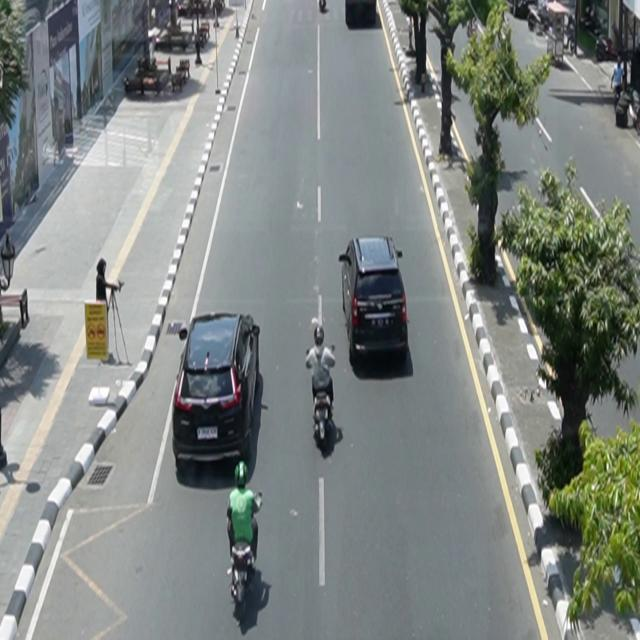car: (172, 312, 261, 468), (339, 236, 410, 366)
